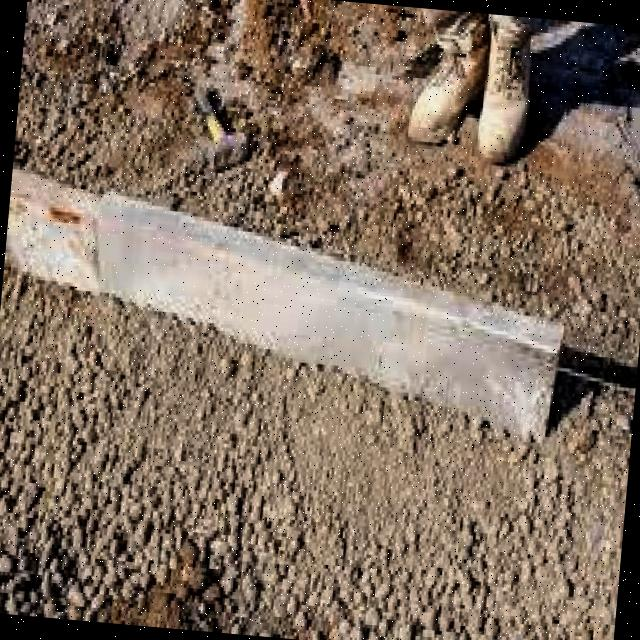curb: (5, 167, 563, 445)
